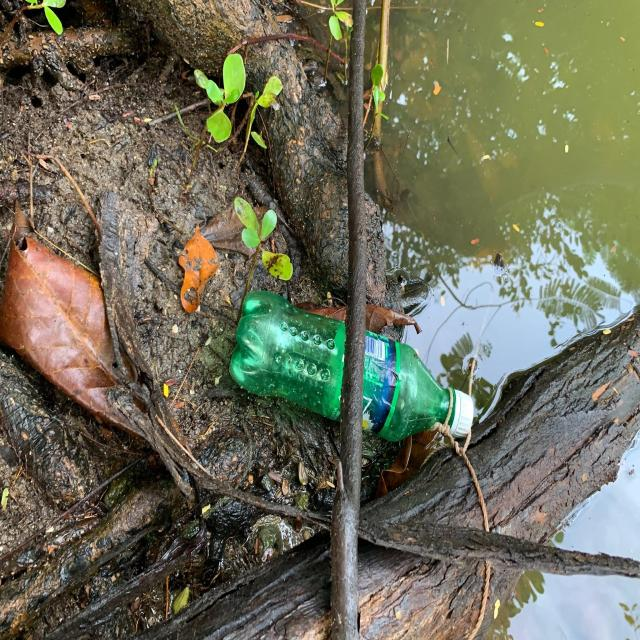litter: (225, 277, 481, 452)
